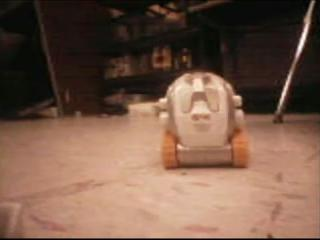cozmo: (154, 70, 250, 169)
